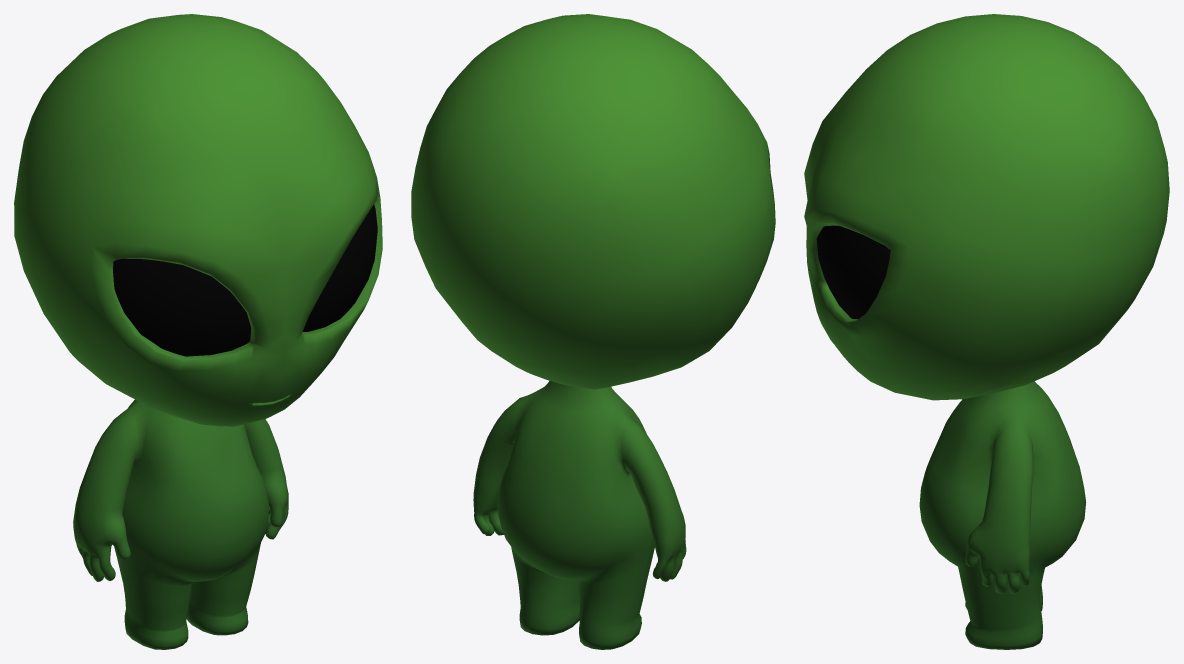
The model's file is Alien.fbx.
3 renders of one model, left to right at view 1: azimuth 30°, elevation 25°; view 2: azimuth 150°, elevation 25°; view 3: azimuth 270°, elevation 25°, orthographic.
Visible parts, largest first — view 1: Alien_Alien_0; view 2: Alien_Alien_0; view 3: Alien_Alien_0.
Boxes of the visible parts, x1,y1,x2,y2 form: Alien_Alien_0: (14, 14, 382, 649); Alien_Alien_0: (411, 14, 775, 649); Alien_Alien_0: (804, 14, 1169, 649).
Bounding box in the file's own units: 70.58 × 129 × 71.74.
